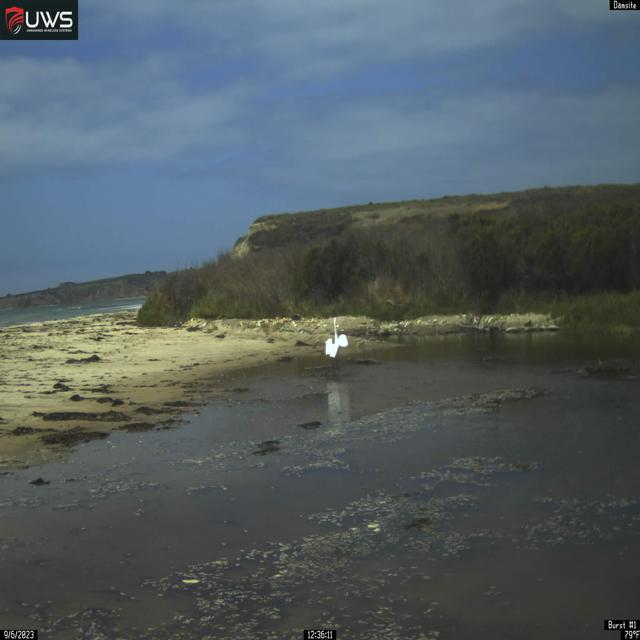bird: (325, 316, 349, 378)
